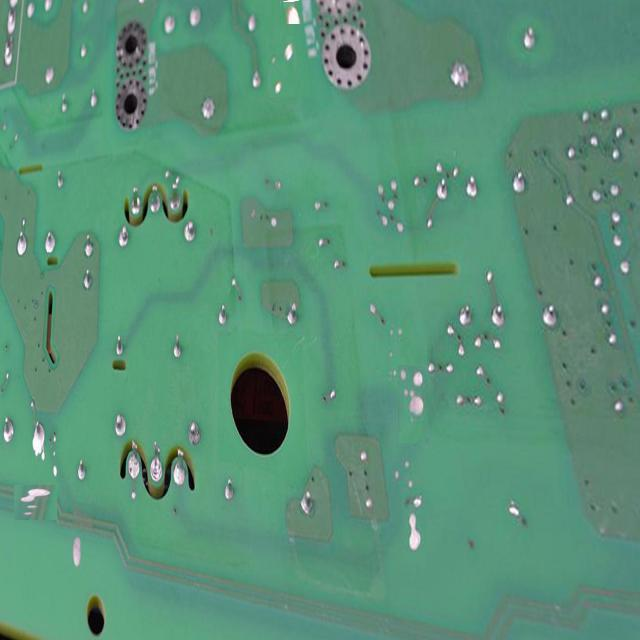spillover: (398, 365, 428, 443), (16, 483, 55, 523), (404, 490, 426, 557), (268, 43, 294, 97), (280, 1, 302, 24)
